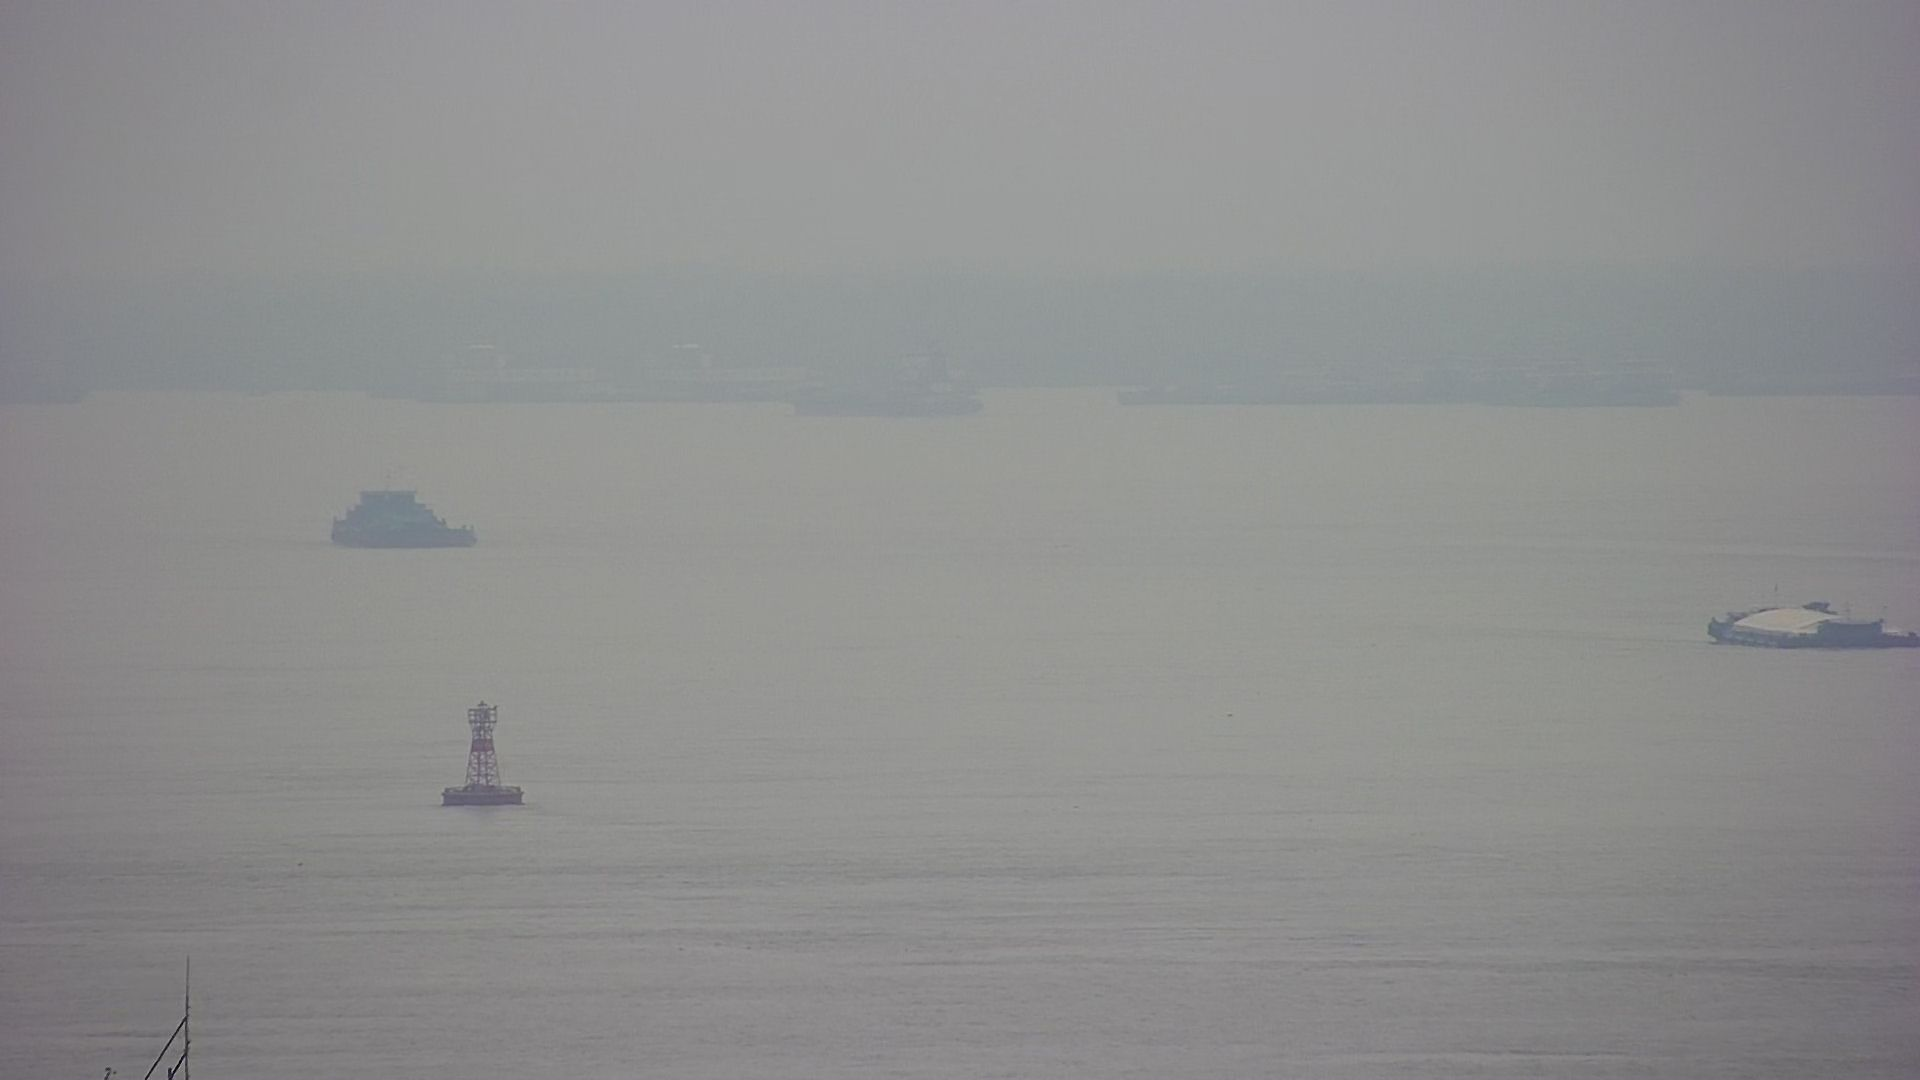buoy: (440, 688, 522, 814)
mast: (92, 949, 198, 1080)
ship: (1698, 585, 1920, 651), (324, 464, 477, 550)
